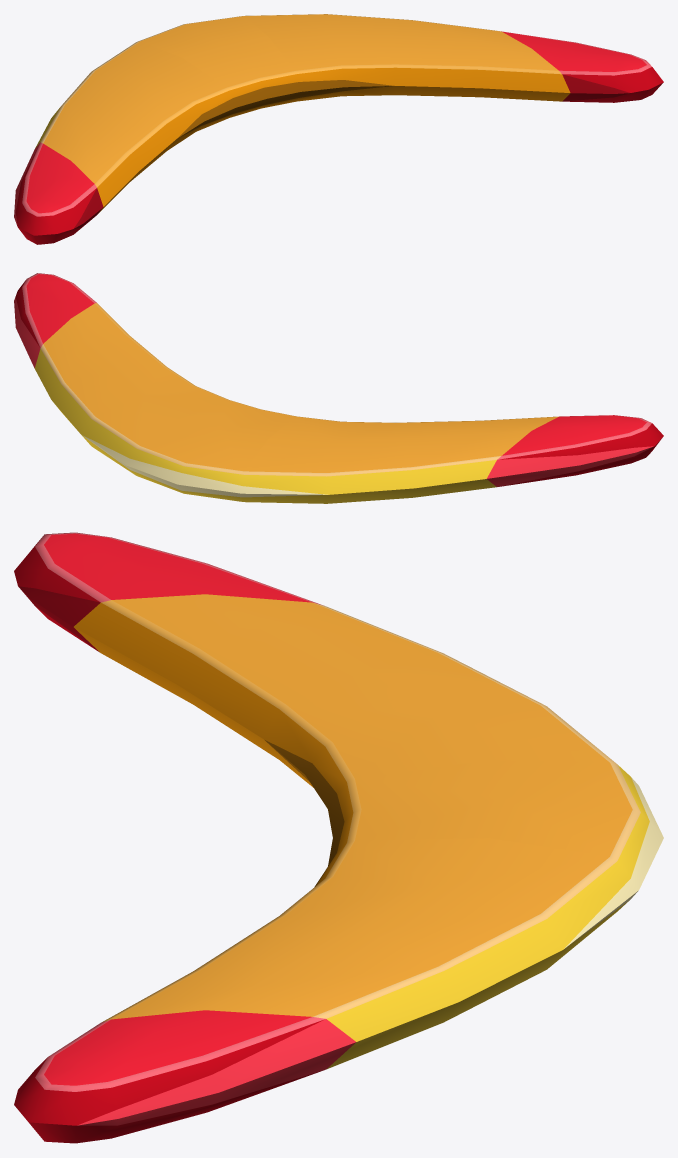
Rendered from Boomerang.fbx.
3 renders of one model, top to bottom at view 1: azimuth 30°, elevation 25°; view 2: azimuth 150°, elevation 25°; view 3: azimuth 270°, elevation 25°, orthographic. The views are drawn at different scales.
Visible parts, largest first — view 1: Boomerang; view 2: Boomerang; view 3: Boomerang.
Part boxes in pixels (x1,y1,x2,y2): Boomerang: [14, 14, 663, 244]; Boomerang: [14, 273, 663, 503]; Boomerang: [14, 532, 663, 1143].
Size of the model in its own units: 99.75 by 6.44 by 47.6.
